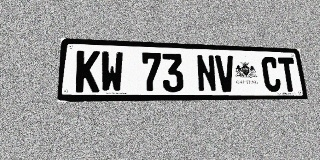3: (162, 53, 184, 92)
7: (141, 52, 162, 92)
C: (261, 57, 282, 92)
K: (75, 50, 100, 92)
N: (196, 54, 217, 92)
T: (278, 57, 298, 92)
V: (215, 55, 236, 92)
W: (100, 51, 123, 92)
